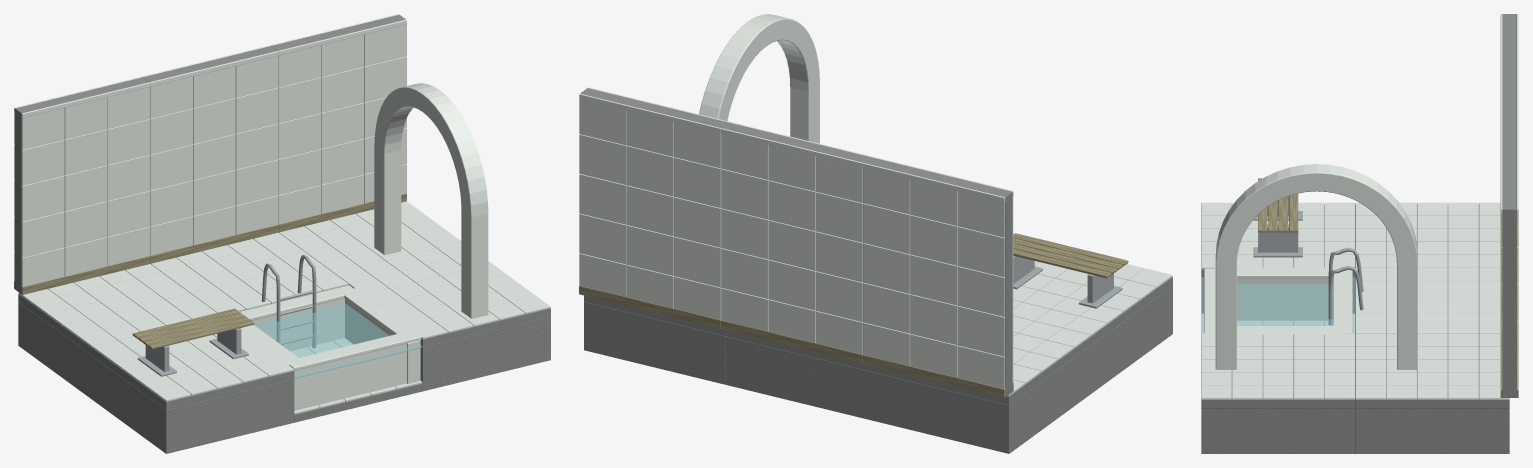
File: liminal-spaces-kit-poolroom-hall-d800e372__25335.glb
3 views of the same model, side by side, from view 1: azimuth 30°, elevation 25°; view 2: azimuth 150°, elevation 25°; view 3: azimuth 270°, elevation 25° (orthographic). The views are drawn at different scales.
Visible parts, largest first — view 1: 000-tiled-wall/3, 001-tiled-wall/3, 002-tiled-wall/3, 009-tiled-arch/0, 018-pool-deck-riser/0, 003-tiled-floor/1, 004-tiled-floor/1, 014-tiled-floor/1, 005-tiled-floor/1, 013-tiled-floor/1, 019-pool-deck-riser/0, 012-pool-edge-corner/0 (+22 smaller); view 2: 000-tiled-wall/3, 002-tiled-wall/3, 001-tiled-wall/3, 015-pool-deck-riser/0, 009-tiled-arch/0, 016-pool-deck-riser/0, 017-pool-deck-riser/0, 013-tiled-floor/1, 018-pool-deck-riser/0, 003-tiled-floor/1, 000-tiled-wall/0, 010-changing-bench/2 (+13 smaller); view 3: 009-tiled-arch/0, 014-tiled-floor/1, 005-tiled-floor/1, 004-tiled-floor/1, 003-tiled-floor/1, 017-pool-deck-riser/0, 019-pool-deck-riser/0, 013-tiled-floor/1, 007-pool-water/0, 012-pool-edge-corner/0, 002-tiled-wall/0, 011-pool-edge-corner/1 (+15 smaller).
Boxes of the visible parts, x1=… form: 000-tiled-wall/3: x1=14, y1=87, x2=150, y2=286; 001-tiled-wall/3: x1=150, y1=55, x2=278, y2=255; 002-tiled-wall/3: x1=278, y1=24, x2=406, y2=224; 009-tiled-arch/0: x1=374, y1=83, x2=488, y2=318; 018-pool-deck-riser/0: x1=92, y1=356, x2=294, y2=453; 003-tiled-floor/1: x1=18, y1=264, x2=216, y2=347; 004-tiled-floor/1: x1=150, y1=232, x2=348, y2=312; 014-tiled-floor/1: x1=349, y1=256, x2=550, y2=338; 005-tiled-floor/1: x1=279, y1=201, x2=461, y2=284; 013-tiled-floor/1: x1=92, y1=331, x2=293, y2=401; 019-pool-deck-riser/0: x1=420, y1=316, x2=550, y2=391; 012-pool-edge-corner/0: x1=294, y1=340, x2=420, y2=410; 000-tiled-wall/3: x1=863, y1=168, x2=1013, y2=388; 002-tiled-wall/3: x1=579, y1=99, x2=721, y2=319; 001-tiled-wall/3: x1=721, y1=133, x2=863, y2=354; 015-pool-deck-riser/0: x1=867, y1=346, x2=1090, y2=453; 009-tiled-arch/0: x1=699, y1=14, x2=819, y2=143; 016-pool-deck-riser/0: x1=725, y1=336, x2=867, y2=419; 017-pool-deck-riser/0: x1=584, y1=301, x2=725, y2=384; 013-tiled-floor/1: x1=1013, y1=261, x2=1172, y2=335; 018-pool-deck-riser/0: x1=1091, y1=286, x2=1172, y2=393; 003-tiled-floor/1: x1=1008, y1=316, x2=1090, y2=396; 000-tiled-wall/0: x1=864, y1=157, x2=1012, y2=396; 010-changing-bench/2: x1=1013, y1=233, x2=1128, y2=278; 009-tiled-arch/0: x1=1215, y1=164, x2=1417, y2=369; 014-tiled-floor/1: x1=1201, y1=333, x2=1355, y2=399; 005-tiled-floor/1: x1=1355, y1=333, x2=1509, y2=399; 004-tiled-floor/1: x1=1355, y1=268, x2=1500, y2=333; 003-tiled-floor/1: x1=1355, y1=202, x2=1500, y2=267; 017-pool-deck-riser/0: x1=1355, y1=408, x2=1509, y2=453; 019-pool-deck-riser/0: x1=1201, y1=408, x2=1355, y2=453; 013-tiled-floor/1: x1=1201, y1=202, x2=1355, y2=269; 007-pool-water/0: x1=1201, y1=277, x2=1355, y2=333; 012-pool-edge-corner/0: x1=1237, y1=278, x2=1333, y2=321; 002-tiled-wall/0: x1=1502, y1=144, x2=1516, y2=397; 011-pool-edge-corner/1: x1=1204, y1=267, x2=1352, y2=334.
Size of the model in its own units: 6 by 3.62 by 4.12.
Materials: 5 (2 with a texture image).
